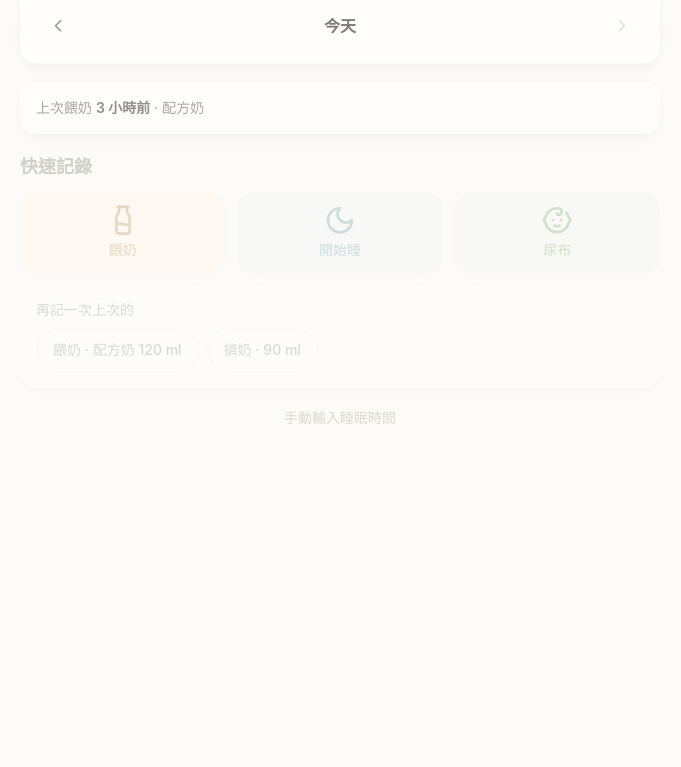
Test: 沿用上一筆 › 一鍵重複存完會說存了什麼
The width and height of the screenshot is (681, 767).
Click the button "餵奶 · 配方奶 120 ml": [117, 350] box [36,328,199,372]
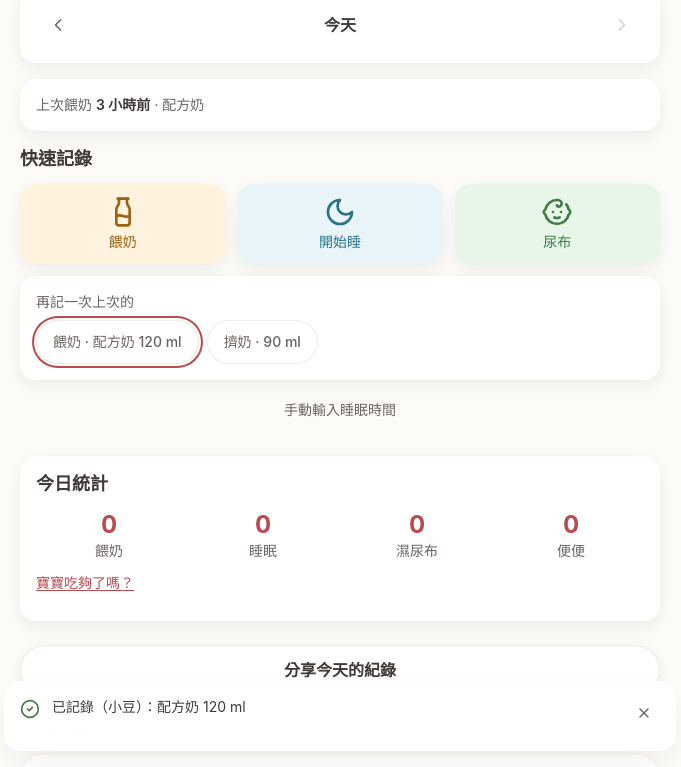
expect the text "已記錄（小豆）：配方奶 120 ml" is shown: met, box [52,698,246,715]
// 擠奶在按鈕上靠標題說自己是擠奶；回報裡沒有標題，要自己說。
Click the button "擠奶 · 90 ml": [262, 342] box [207,320,318,364]
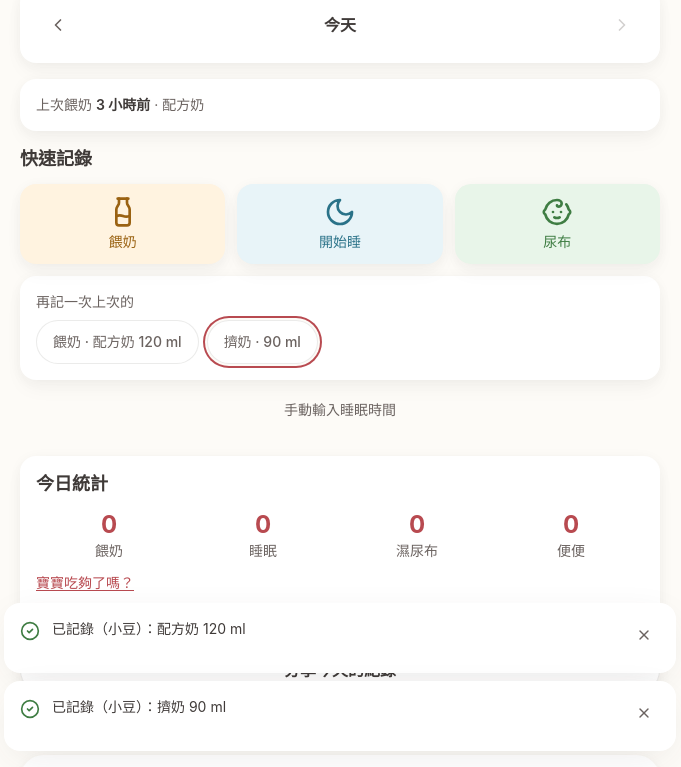
expect the text "已記錄（小豆）：擠奶 90 ml" is shown: met, box [52,698,226,715]
